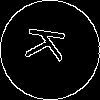K: (25, 25, 75, 65)
